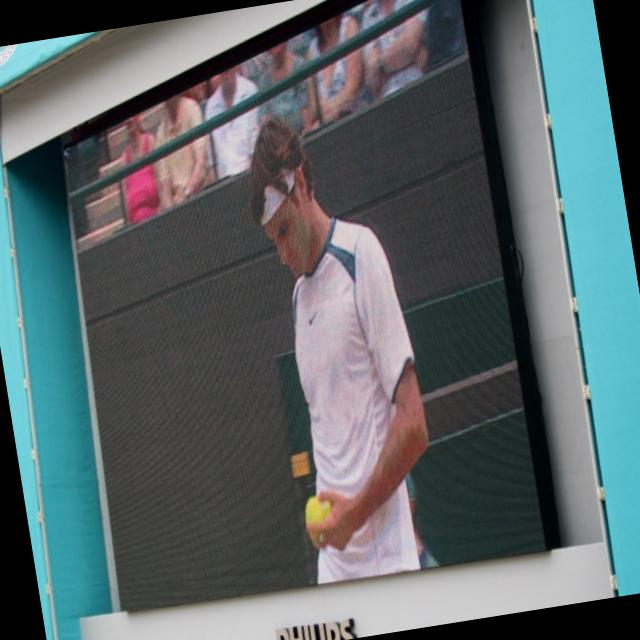Tennis Ball: (302, 492, 334, 523)
